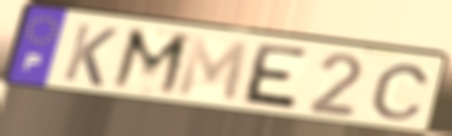2: (303, 51, 366, 119)
C: (368, 62, 433, 122)
E: (237, 41, 311, 114)
K: (59, 21, 121, 90)
M: (107, 25, 195, 100), (174, 34, 252, 106)
